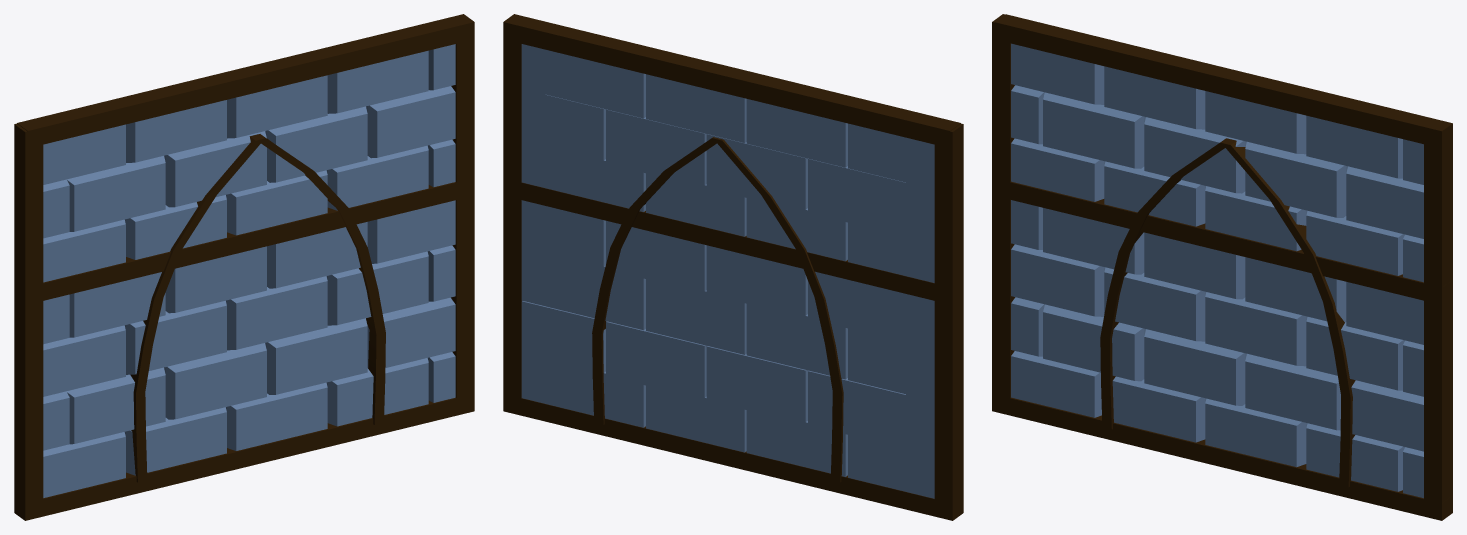
File: Ruins_Basic_Wall 1.FBX
The picture shows the model from 3 angles, left to right: view 1: azimuth 30°, elevation 25°; view 2: azimuth 150°, elevation 25°; view 3: azimuth 330°, elevation 25°; orthographic projection.
Visible parts, largest first — view 1: Box032, Object; view 2: Box032, Object; view 3: Box032, Object.
Boxes of the visible parts, left/top/right/bottom form: Box032: left=43, top=44, right=455, bottom=497; Object: left=14, top=14, right=474, bottom=520; Box032: left=521, top=44, right=934, bottom=498; Object: left=503, top=14, right=963, bottom=520; Box032: left=1011, top=43, right=1423, bottom=498; Object: left=992, top=14, right=1452, bottom=520.
Bounding box in the file's own units: 125 × 104 × 6.43.
